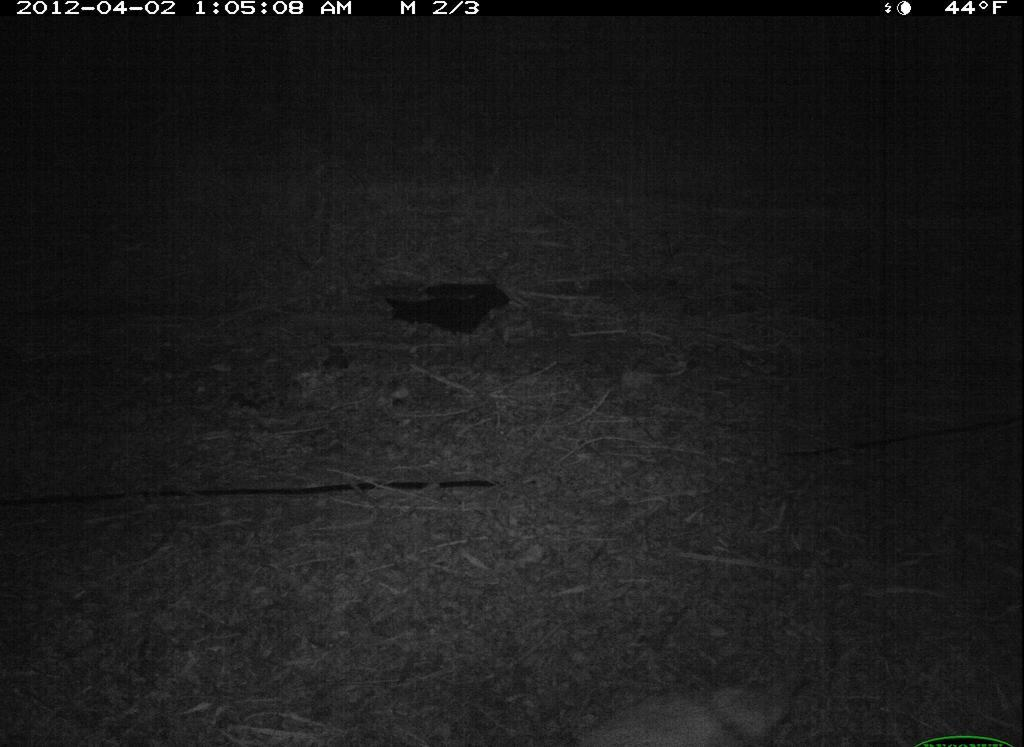coyote: (562, 671, 816, 747)
